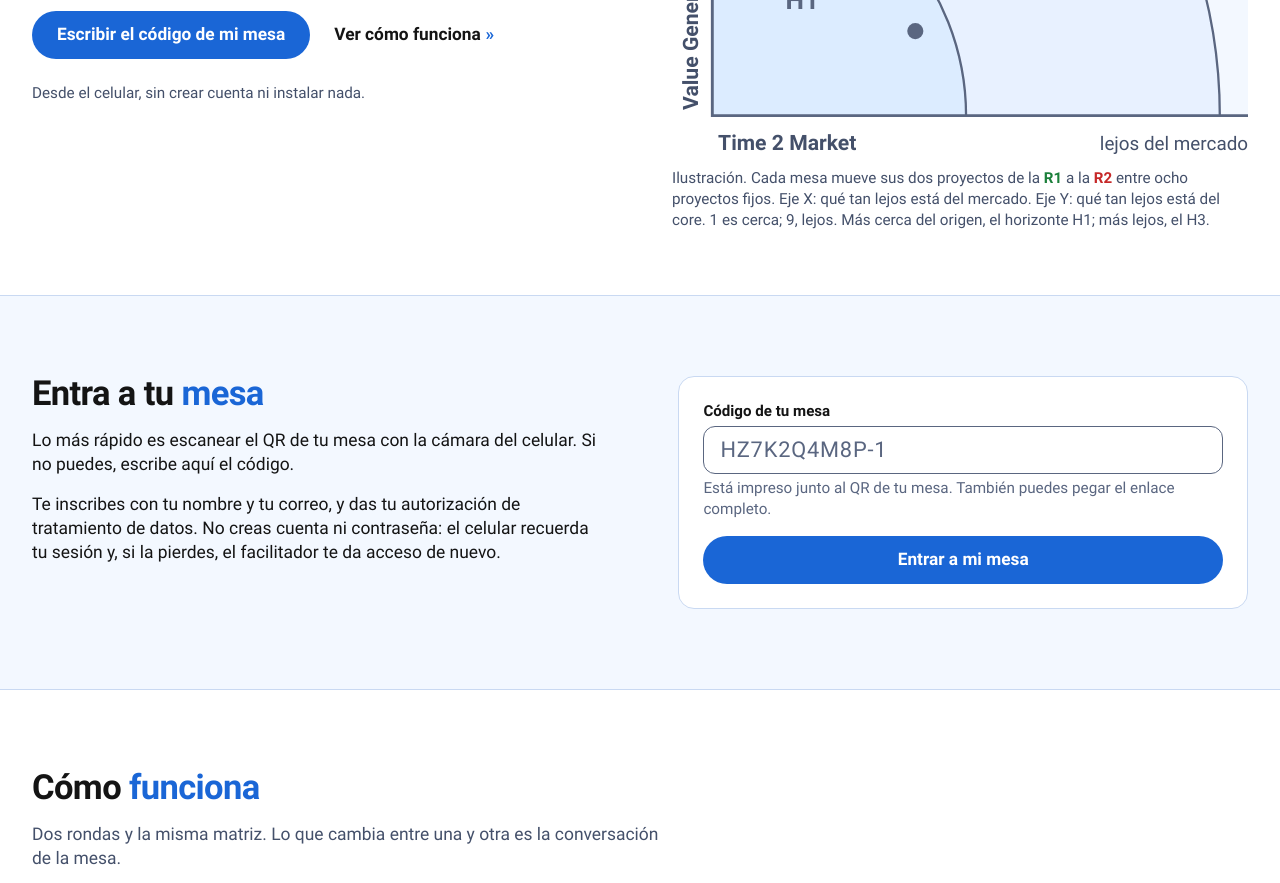
Test case: landing de la raíz › con la inscripción cerrada lo dice y deja ir a la mesa a quien ya se inscribió
This screenshot has width=1280, height=883.
(page scrolled)
Type "HZ7K2-2" into the field labelled "Código de tu mesa" at x=963, y=450, box [703, 426, 1223, 474]
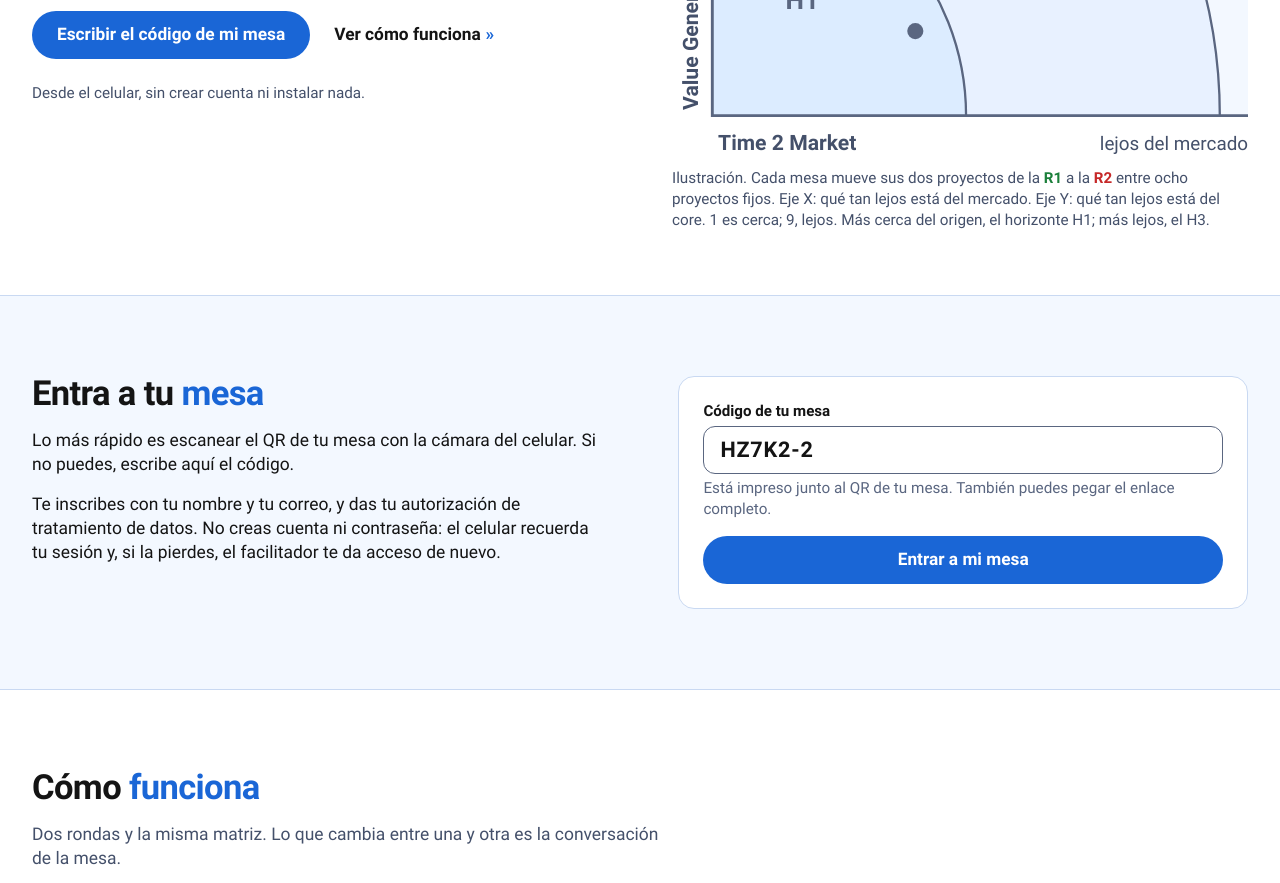
Click the button "Entrar a mi mesa" at x=963, y=560, box [703, 536, 1223, 584]
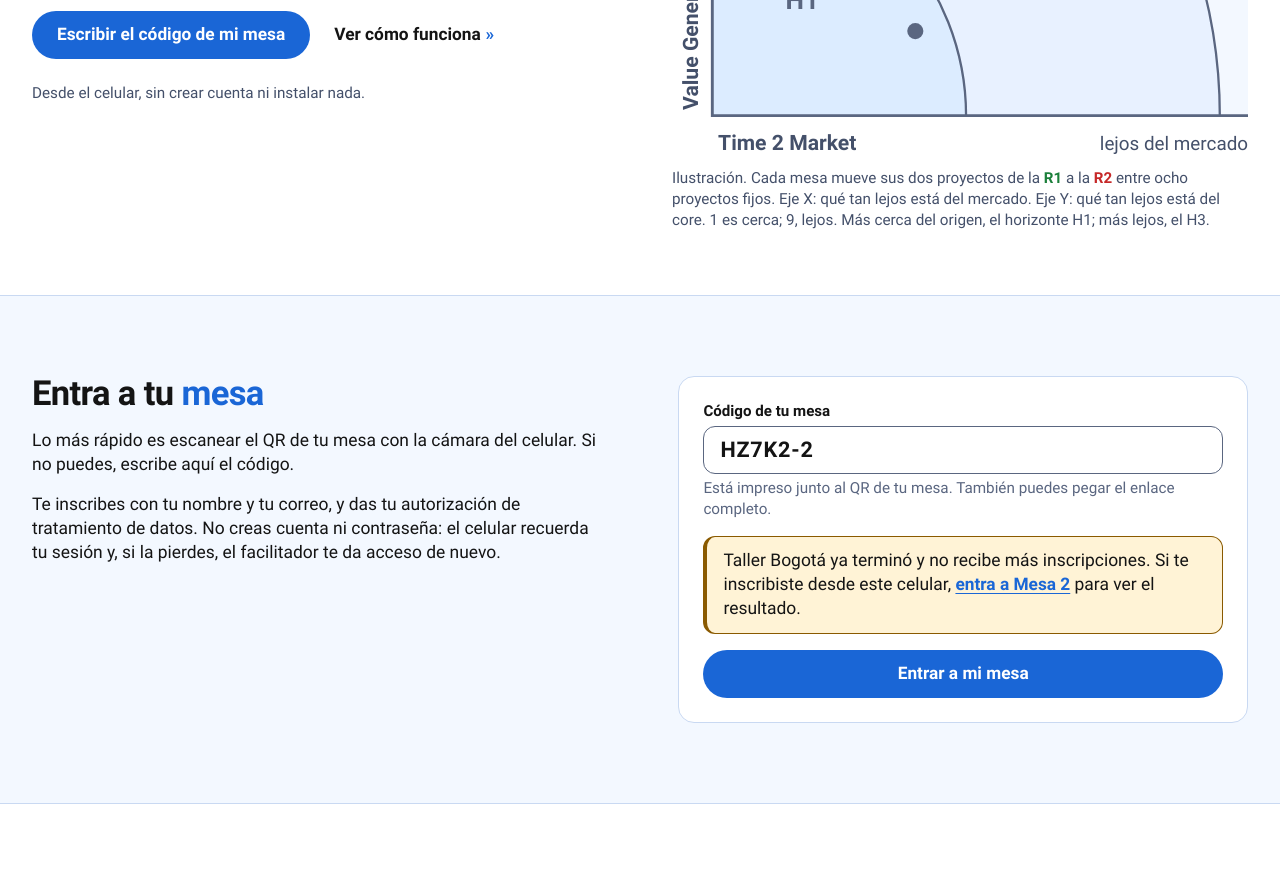
Expected: the message shows "Taller Bogotá ya terminó y no recibe más inscripciones", [703, 536, 1223, 634]
